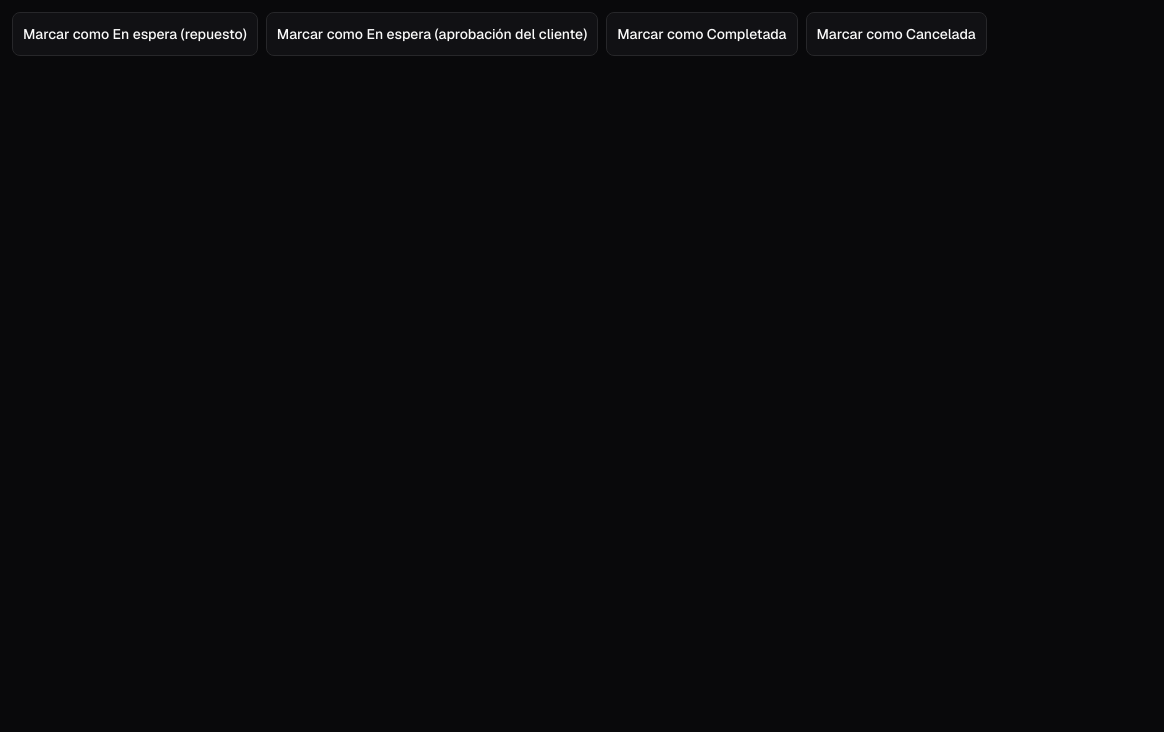
OrderStatusControls — hold, resume, receive › sends the reason of the button pressed: Marcar como En espera (repuesto)
Click the button "Marcar como En espera (repuesto)".
click(135, 34)  # box [12,12,258,56]
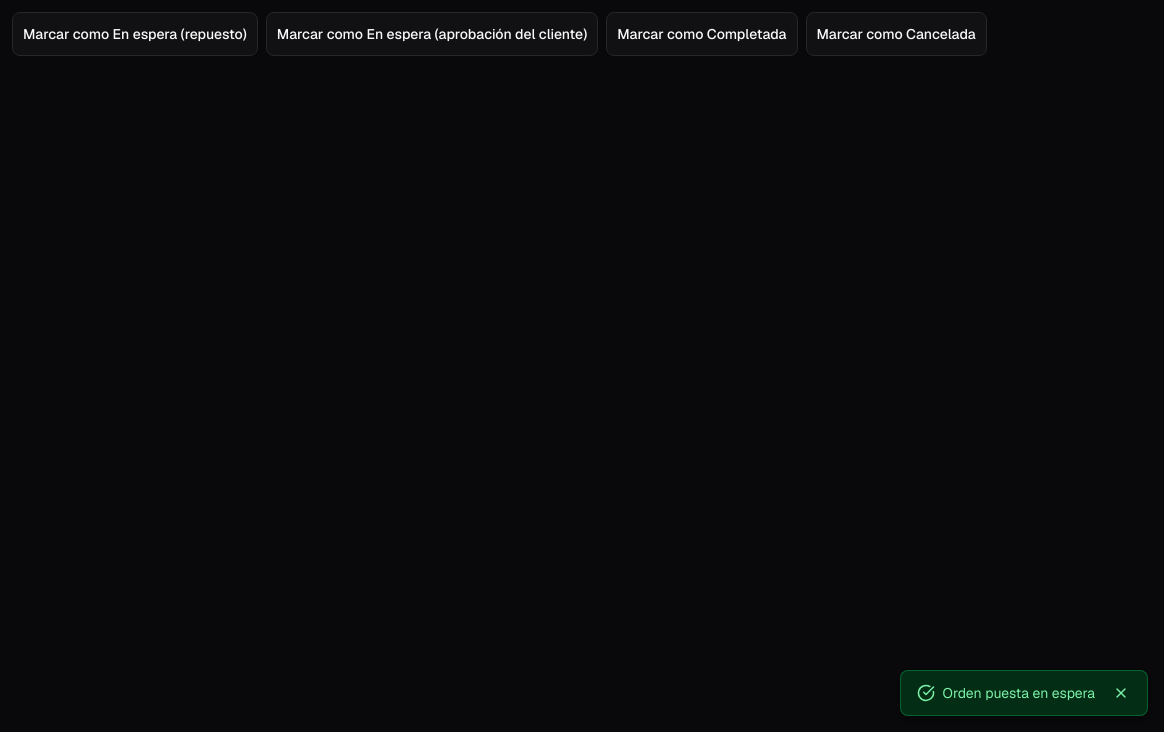
Result: the text "Orden puesta en espera" is shown at [943,683,1095,703]
